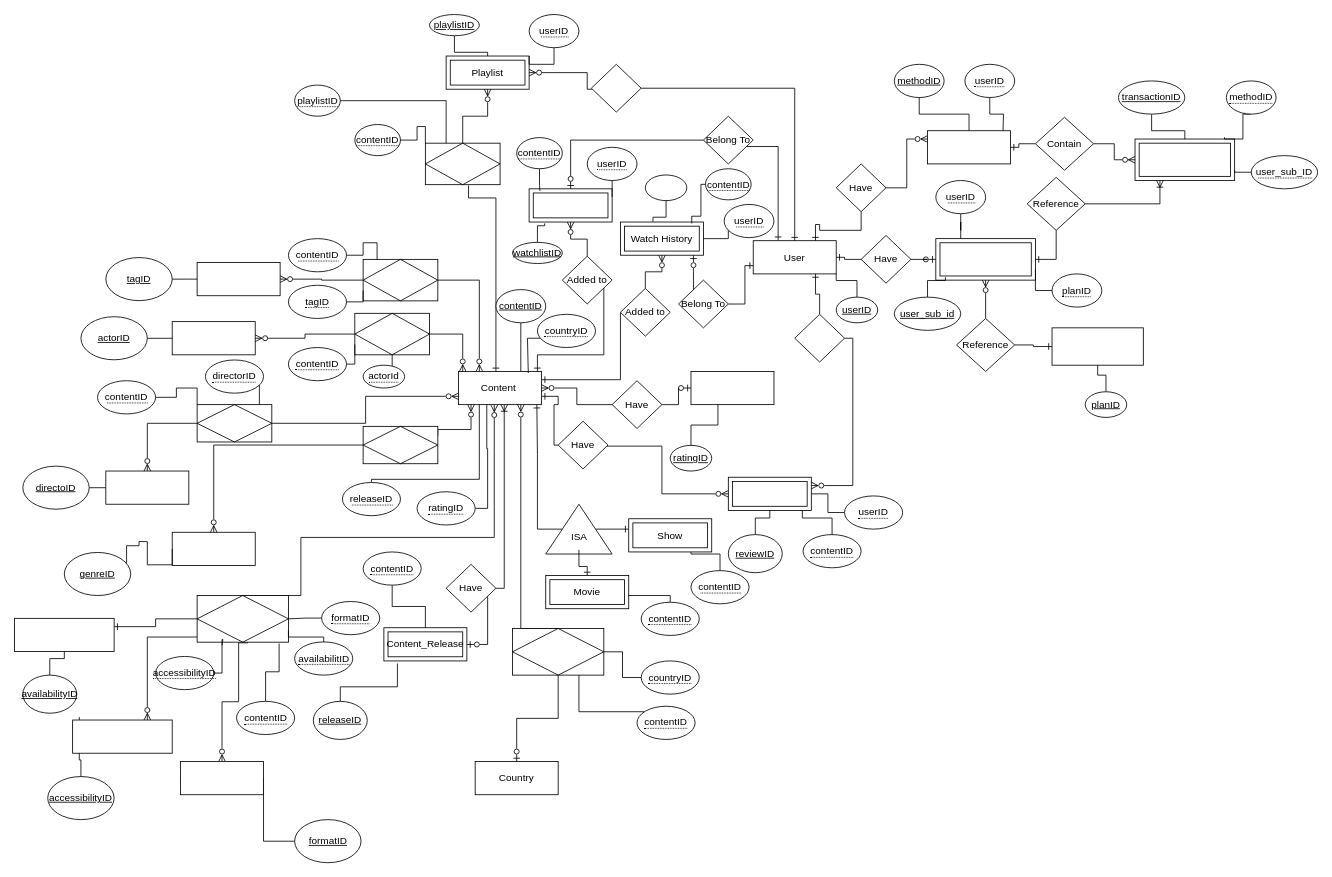
Image size: 1332x877. Some labels were removed from this diagram. The box of each missing label's shape, as (x1, y1, x2, y2) in pixels:
Actor: (171, 321, 255, 355)
Content_Accessibility: (72, 719, 172, 753)
Content_Availability: (14, 618, 114, 652)
Content_Cast: (354, 312, 430, 355)
Content_Director: (196, 404, 272, 442)
Content_Format: (180, 761, 264, 795)
Content_Genre: (362, 426, 438, 464)
Content_Tag: (362, 259, 438, 301)
Country_Content: (512, 628, 604, 675)
Create: (591, 63, 641, 112)
Director: (105, 470, 189, 504)
FormattedContent: (196, 595, 288, 642)
Genre: (171, 531, 255, 565)
Give: (794, 313, 845, 362)
historyID: (644, 174, 687, 201)
Payment Method: (927, 130, 1011, 164)
Playlist_Content: (425, 142, 500, 185)
Rating: (690, 371, 774, 405)
Review: (727, 476, 811, 510)
Subscription_Plans: (1051, 327, 1143, 365)
Tag: (196, 262, 280, 296)
Transactions: (1134, 138, 1235, 181)
User_Subscriptions: (935, 238, 1035, 280)
Watchlist: (528, 188, 612, 222)
